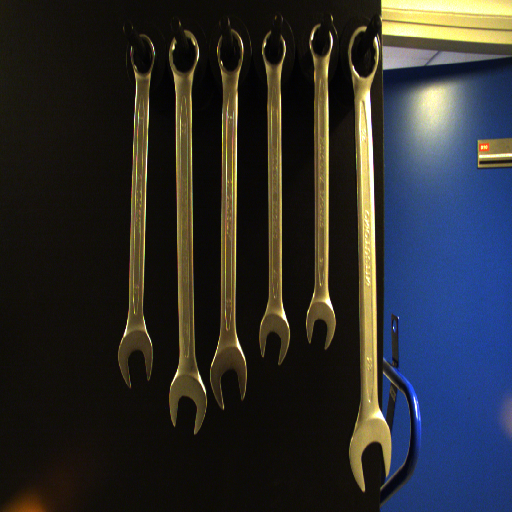bottom: (345, 416, 395, 494), (206, 342, 251, 413), (165, 371, 210, 436), (115, 327, 158, 389), (253, 311, 297, 369), (301, 298, 344, 351)
top: (346, 24, 380, 81), (166, 28, 200, 76), (213, 27, 245, 74), (127, 30, 158, 77), (261, 28, 290, 71), (306, 21, 336, 62)
